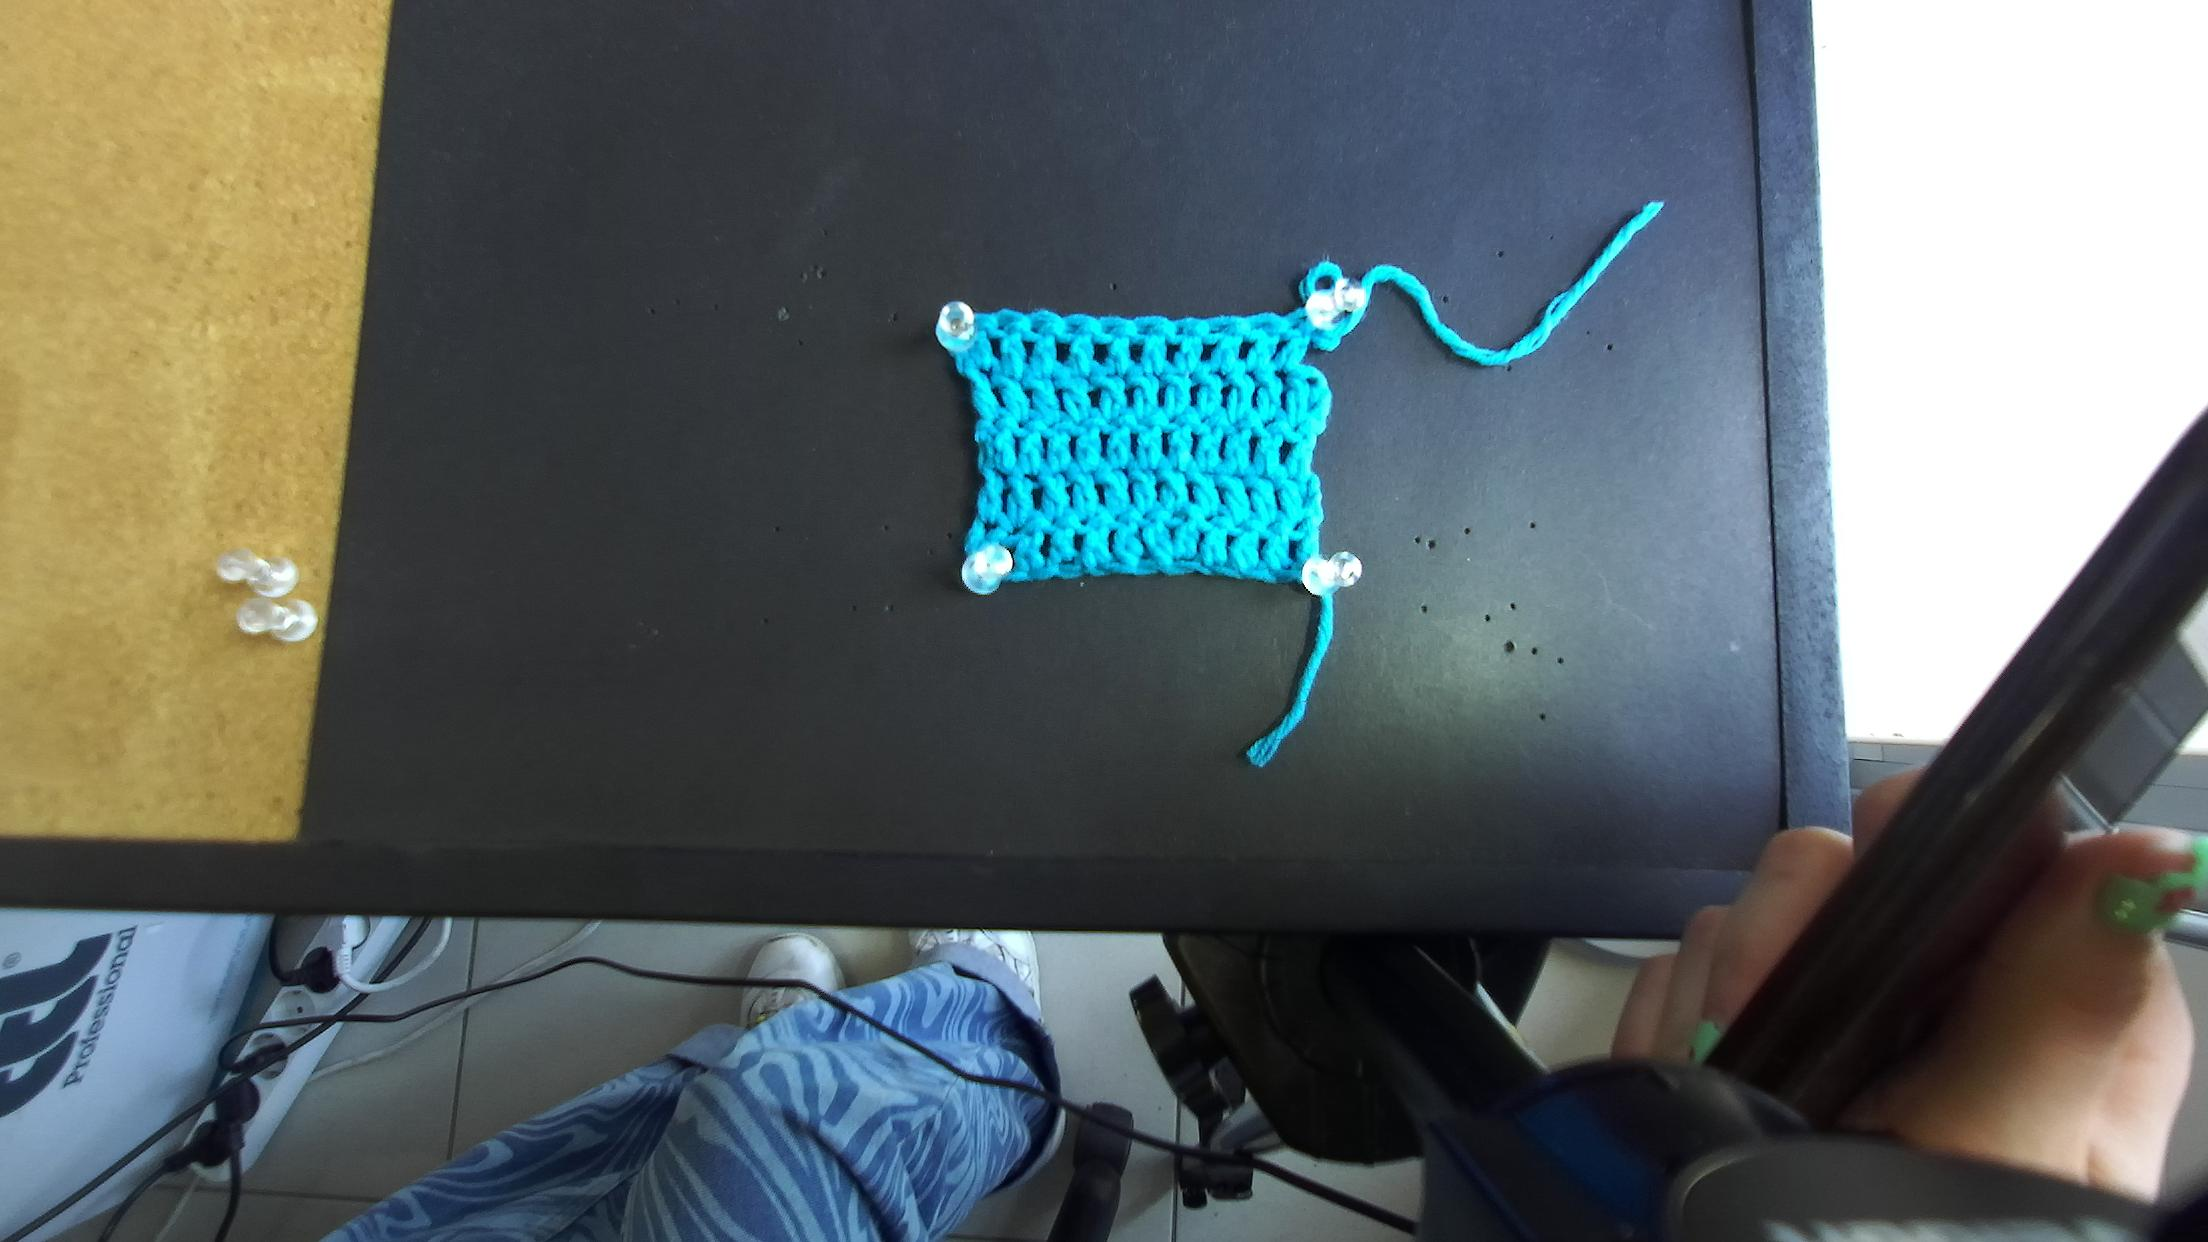hole: (1250, 321, 1277, 335), (996, 317, 1018, 331), (1209, 323, 1230, 334), (1030, 321, 1048, 334), (1062, 323, 1081, 334), (1101, 325, 1121, 335), (1136, 325, 1156, 335), (1292, 315, 1307, 328), (1175, 326, 1190, 335)
swatch: (934, 302, 1363, 599)
